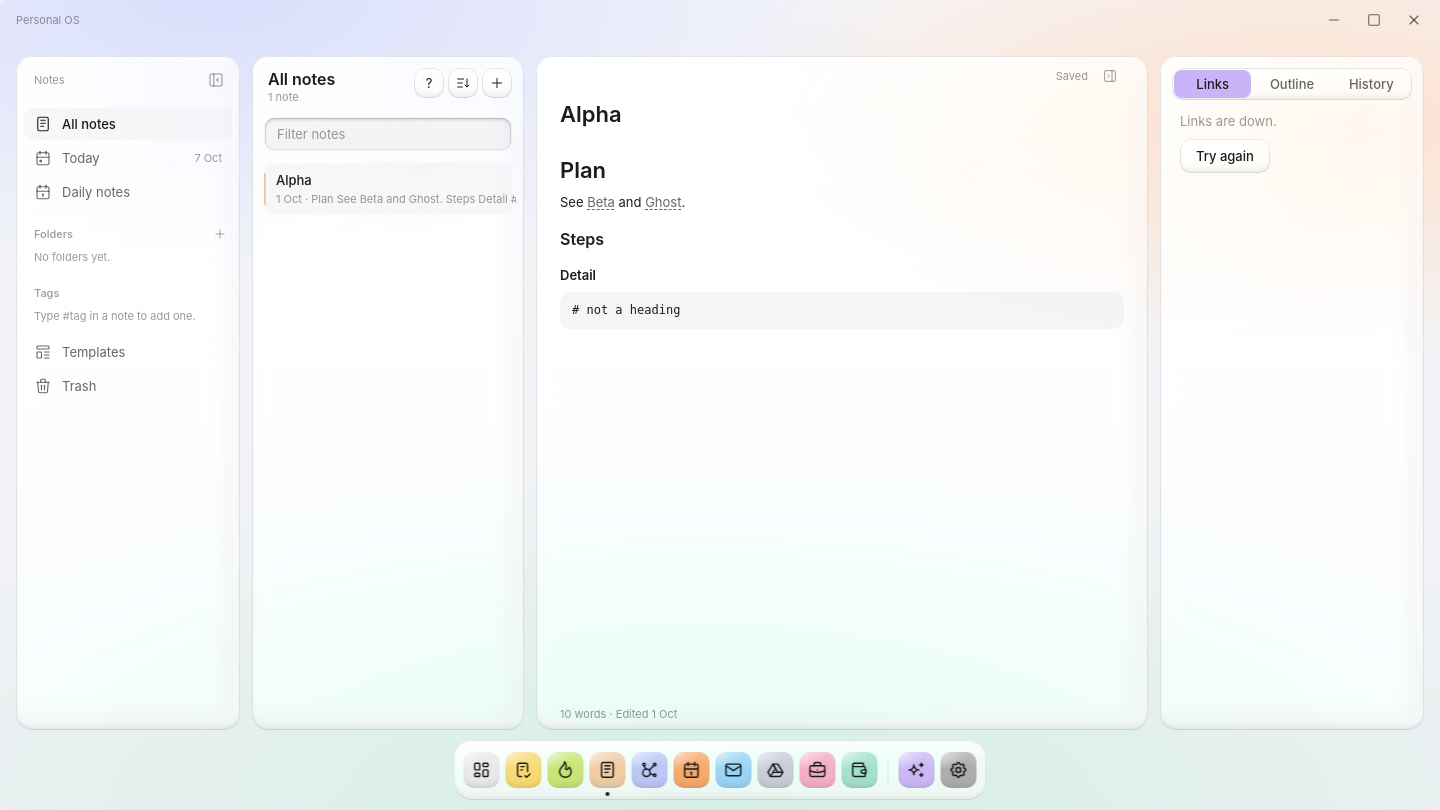
Test: the right panel › shows an error with Try again when the links cannot be read
Expected: the text "Links are down." is shown, [1180, 112, 1277, 131]
Click the button "Try again".
click(1225, 156)  # box [1180, 139, 1270, 173]
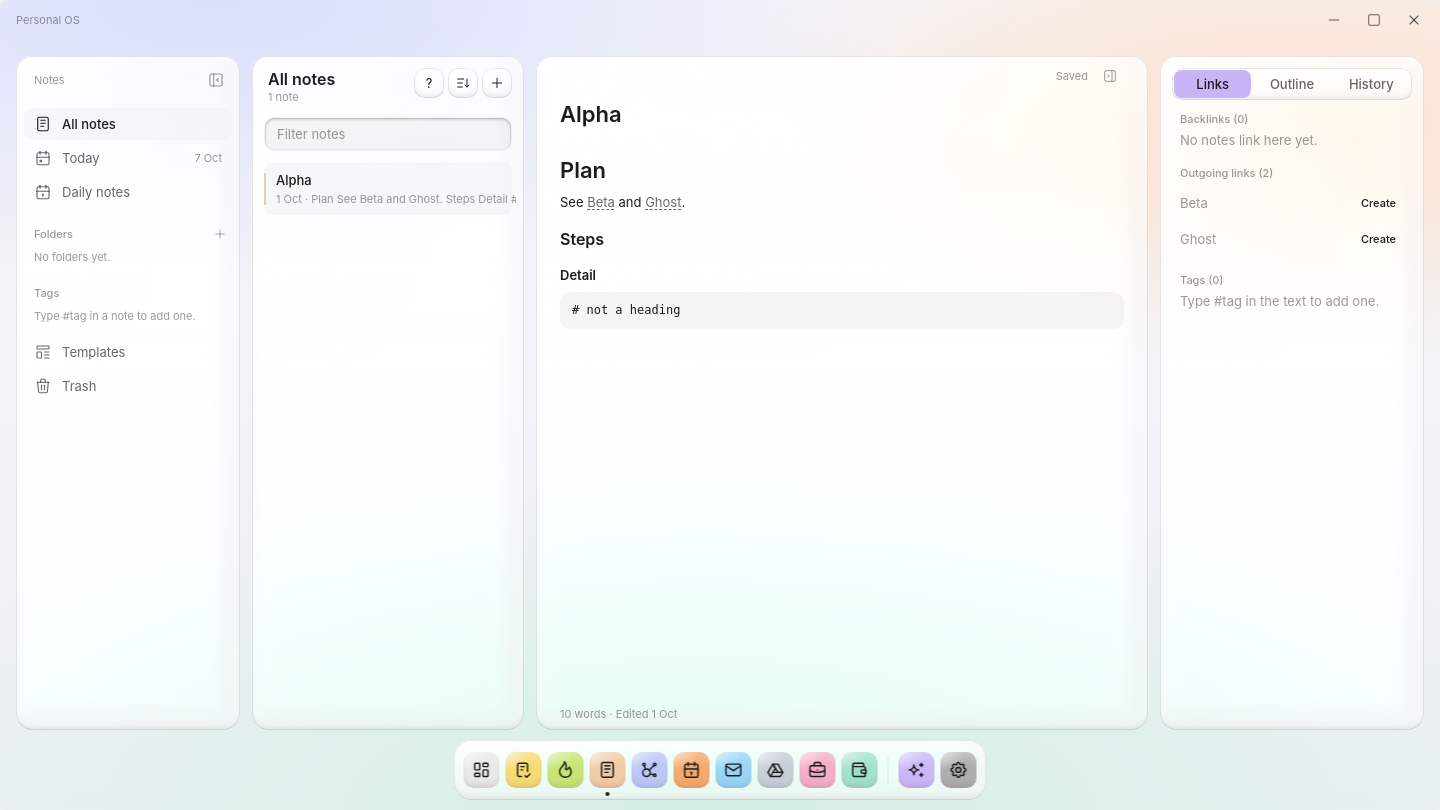
Now the heading "Backlinks (0)" is shown, box [1180, 112, 1248, 126]
